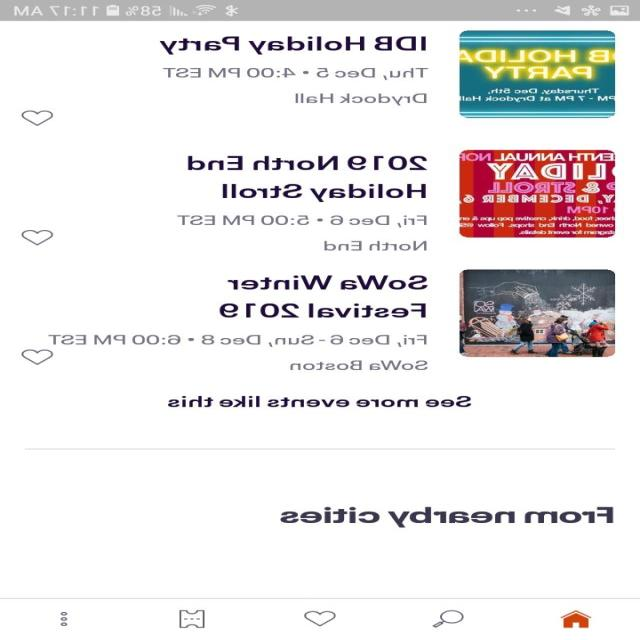Icon: (432, 609, 465, 628), (560, 609, 592, 628), (304, 610, 337, 626), (180, 609, 207, 628), (22, 349, 54, 365), (22, 110, 54, 126), (22, 230, 54, 245), (60, 611, 68, 626)
Image: (459, 149, 616, 238), (459, 269, 616, 357), (460, 30, 616, 118)
Text: (188, 156, 428, 202), (220, 275, 428, 317), (280, 506, 614, 528), (160, 36, 428, 55), (49, 334, 428, 347), (169, 395, 472, 407), (178, 215, 428, 228), (162, 68, 428, 80), (295, 93, 428, 106), (291, 360, 428, 370), (324, 241, 428, 251)
